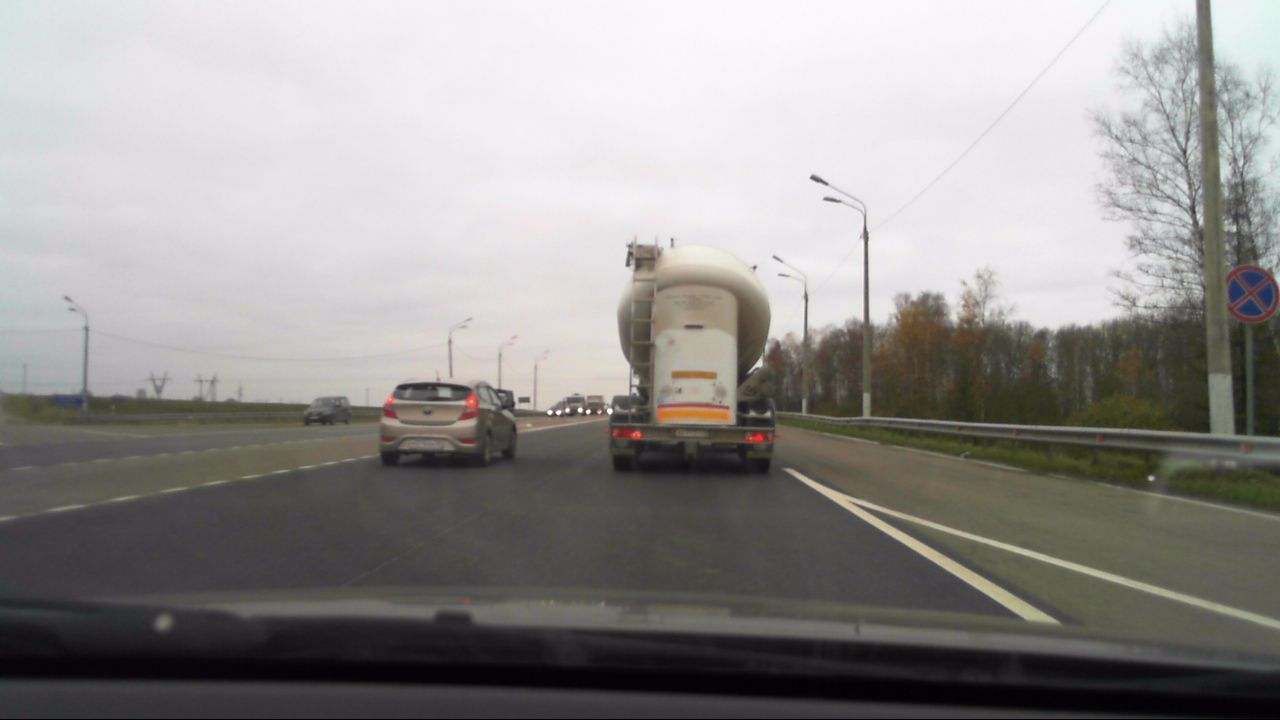No Parking: (1212, 261, 1279, 323)
